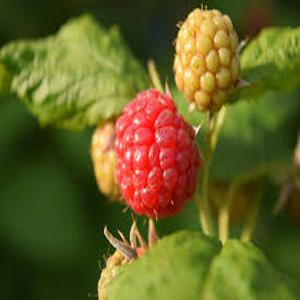raspb: (112, 90, 199, 217)
